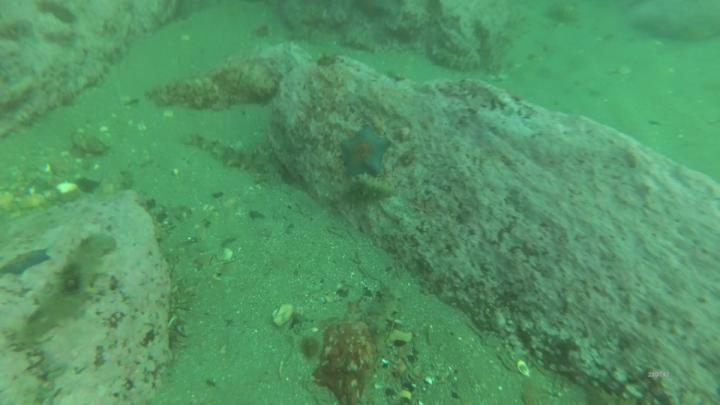holothurian: (15, 233, 117, 347), (192, 129, 253, 171), (372, 283, 403, 359)
starfish: (338, 124, 393, 182), (2, 249, 54, 279)
